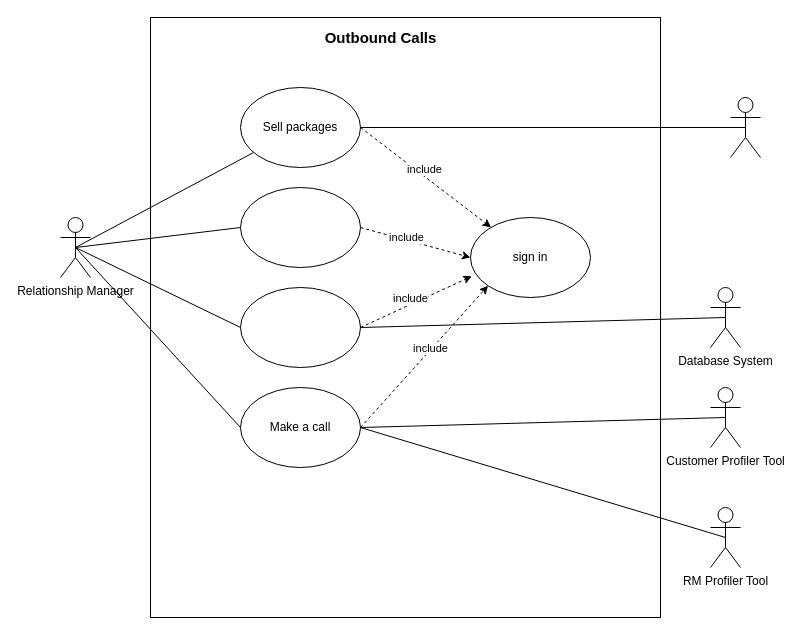
Some shapes in this 802 by 635 pixel diagram are drawn without their labels. Each missing label, with the centre of its shape:
Customer: point (745, 127)
View customer profile: point (300, 327)
View packages: point (300, 227)
